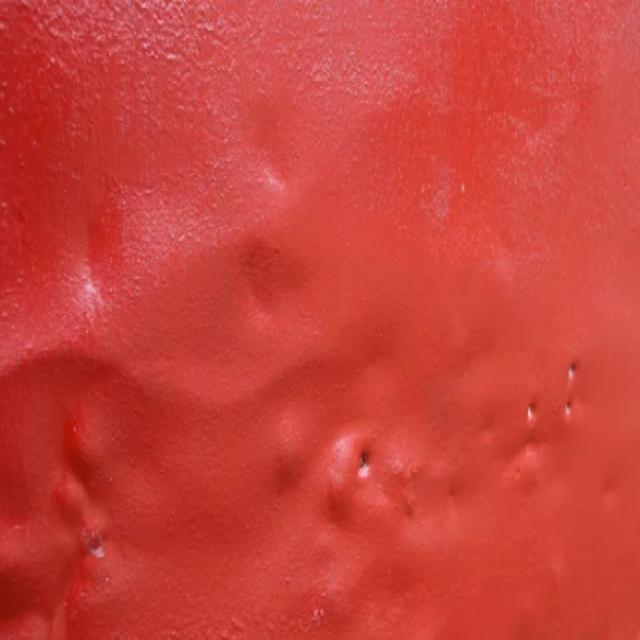dents: (0, 364, 145, 640), (472, 334, 614, 520), (64, 208, 146, 337), (223, 237, 311, 336), (331, 388, 394, 509), (240, 138, 319, 219), (260, 409, 323, 502)
